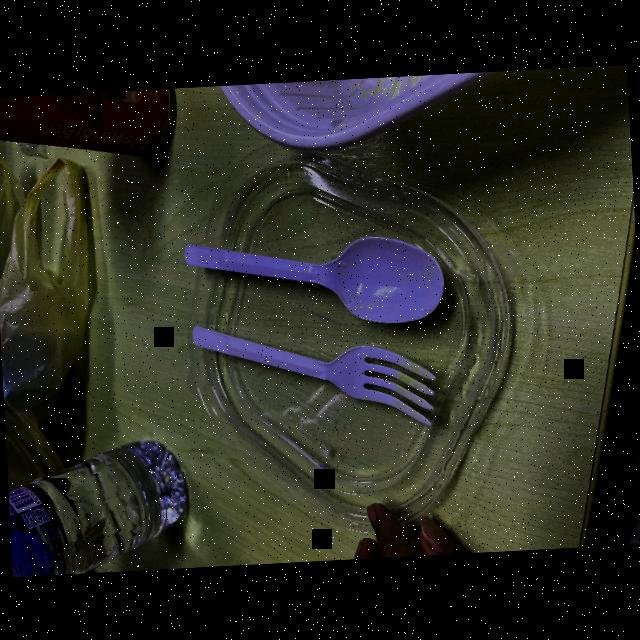plastic_spoon: (178, 206, 460, 346), (192, 303, 448, 449)
